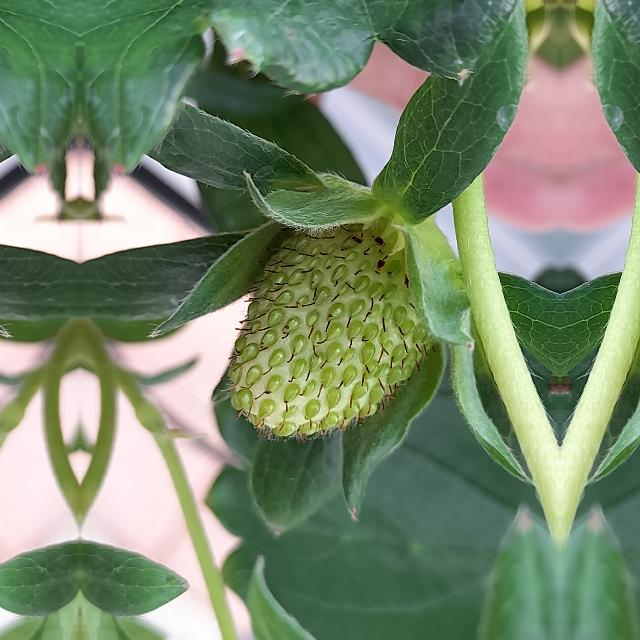Health_25: (220, 210, 440, 442)
